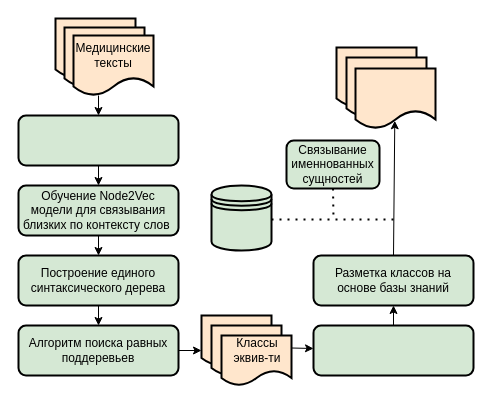
The diagram is 491 pixels wide and 403 high, and some of its shapes have lost their labels. The box of each missing label's shape, as (x1, y1, x2, y2) in pixels:
База знаний: (210, 184, 272, 251)
Морфологический и синтаксический анализ предложений корпуса: (17, 114, 179, 166)
Размеченные данные: (354, 67, 436, 129)
Фильтрация осмысленных классов: (312, 324, 474, 376)
